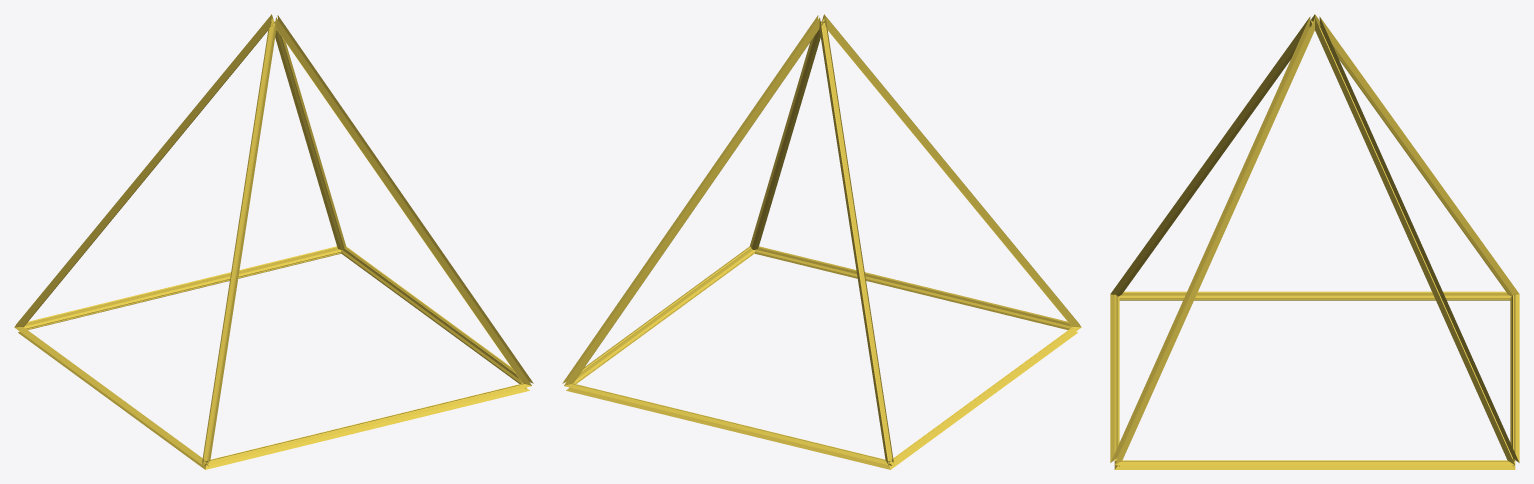
Rendered from Rusuk Limas Segiempat.fbx.
3 renders of one model, left to right at view 1: azimuth 30°, elevation 25°; view 2: azimuth 150°, elevation 25°; view 3: azimuth 270°, elevation 25°, orthographic. The views are drawn at different scales.
Parts seen in each view (by area): view 1: Cube.003, Cube.002, Cube.005, Cube.001, Cube.004; view 2: Cube.003, Cube.004, Cube.005, Cube.001, Cube.002; view 3: Cube.001, Cube.002, Cube.004, Cube.005, Cube.003.
Boxes of the visible parts, x1,y1,x2,y2 form: Cube.003: (14,17,274,466); Cube.002: (203,17,531,465); Cube.005: (18,246,529,469); Cube.001: (270,15,533,388); Cube.004: (16,14,343,329); Cube.003: (821,17,1081,466); Cube.004: (564,17,892,465); Cube.005: (566,246,1077,469); Cube.001: (562,15,825,388); Cube.002: (752,14,1079,329); Cube.001: (1115,18,1514,465); Cube.002: (1110,16,1318,466); Cube.004: (1311,16,1519,466); Cube.005: (1114,291,1515,469); Cube.003: (1117,14,1512,299).
Size of the model in its own units: 204 by 204 by 204.
